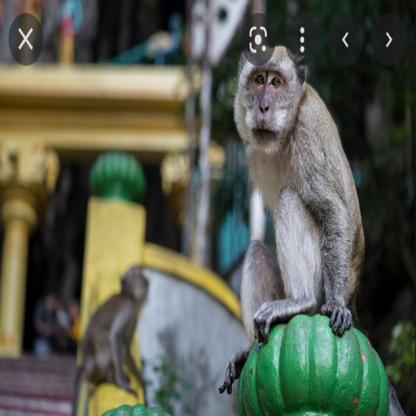monkey: (217, 43, 366, 394)
